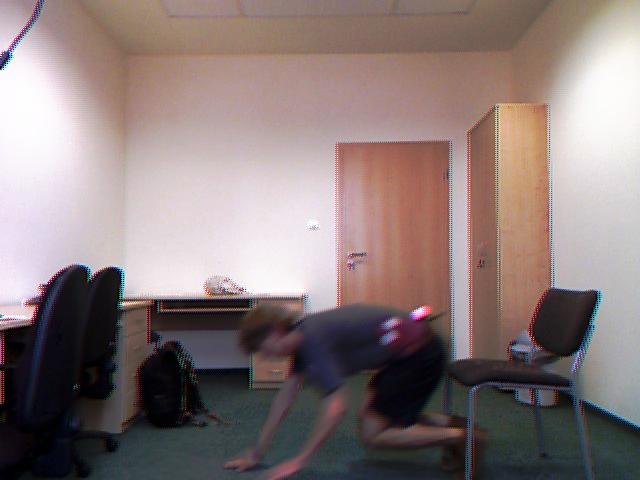fall: (211, 290, 493, 480)
